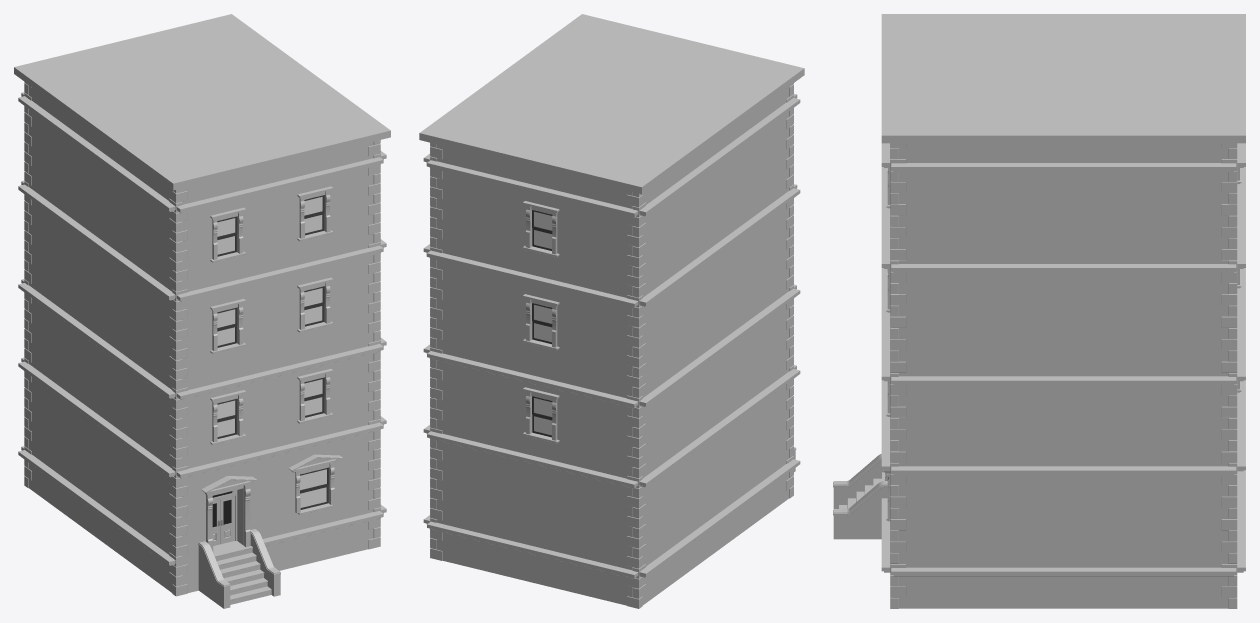
Rendered from kornelius house.fbx.
3 renders of one model, left to right at view 1: azimuth 30°, elevation 25°; view 2: azimuth 150°, elevation 25°; view 3: azimuth 270°, elevation 25°, orthographic. The views are drawn at different scales.
Visible parts, largest first — view 1: Plane.325, Cube.065, Plane.347, stairs.001, Cube.058, Cube.053, Cube.048, Cube.043, Cube.062, Cube.063, Cube.060, Cube.061 (+13 smaller); view 2: Plane.325, Cube.065, Plane.347, Cube.058, Cube.053, Cube.048, Cube.043, Cube.066, Cube.062, Cube.063, Cube.060, Cube.061 (+7 smaller); view 3: Plane.325, Cube.065, Plane.347, stairs.001, Cube.060, Cube.061, Cube.064, Cube.062, Cube.063, Cube.048, Cube.053, Cube.043 (+2 smaller).
Boxes of the visible parts, x1,y1,x2,y2 form: Plane.325: (28,86,379,592); Cube.065: (14,14,390,190); Plane.347: (24,82,380,596); stairs.001: (198,529,280,608); Cube.058: (21,92,383,213); Cube.053: (21,180,383,301); Cube.048: (21,279,383,399); Cube.043: (21,357,383,478); Cube.062: (18,184,386,300); Cube.063: (18,96,386,211); Cube.060: (18,361,386,477); Cube.061: (18,283,386,398); Plane.325: (431,87,789,605); Cube.065: (419,14,804,194); Plane.347: (430,83,793,608); Cube.058: (426,94,797,217); Cube.053: (426,184,797,307); Cube.048: (427,284,796,408); Cube.043: (427,365,796,488); Cube.066: (427,521,638,578); Cube.062: (423,188,800,306); Cube.063: (423,98,800,216); Cube.060: (423,369,800,487); Cube.061: (423,288,800,406); Plane.325: (891,143,1235,608); Cube.065: (881,14,1245,143); Plane.347: (890,143,1237,608); stairs.001: (833,454,887,539); Cube.060: (891,466,1236,475); Cube.061: (891,376,1236,385); Cube.064: (891,567,1236,576); Cube.062: (891,264,1236,272); Cube.063: (891,163,1236,171); Cube.048: (881,268,1245,381); Cube.053: (881,167,1245,268); Cube.043: (881,380,1245,471).
Bounding box in the file's own units: 999 × 1830 × 1435.
